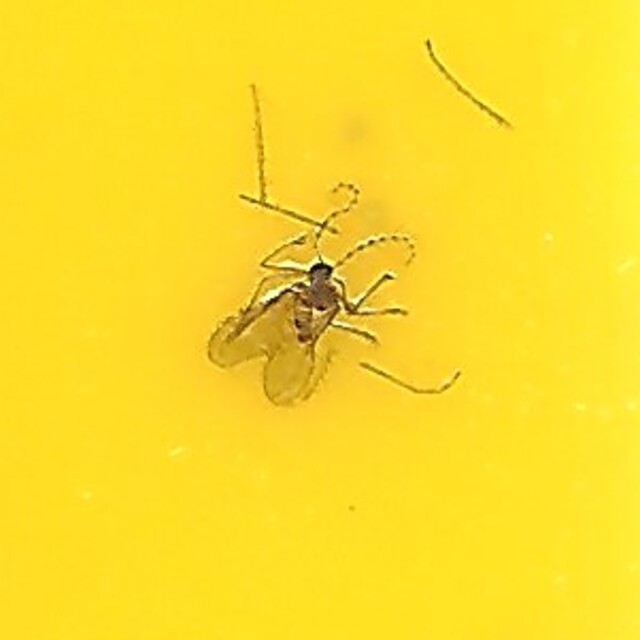Nematocera: (213, 207, 427, 433)
